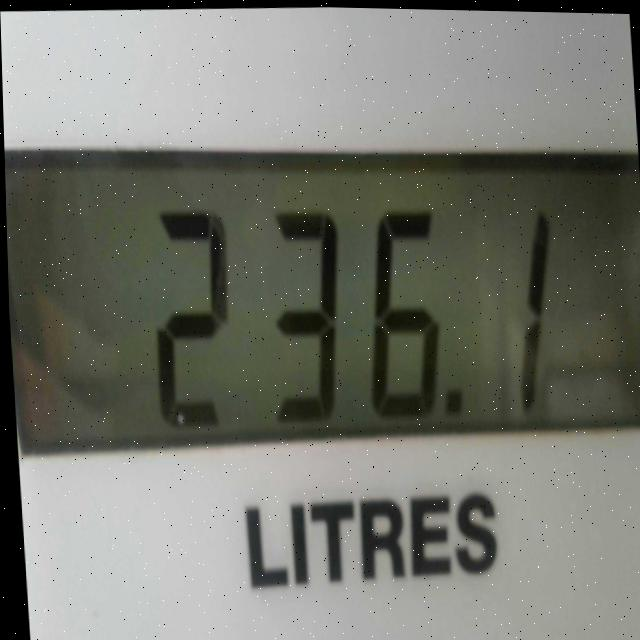.: (433, 369, 464, 428)
1: (481, 201, 562, 418)
2: (139, 195, 252, 437)
3: (250, 196, 352, 432)
6: (346, 188, 446, 419)
